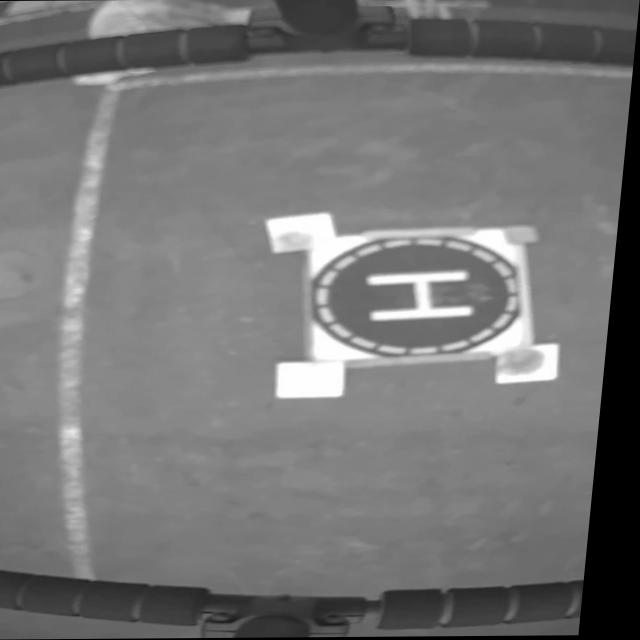Helipad: (371, 270, 480, 322)
